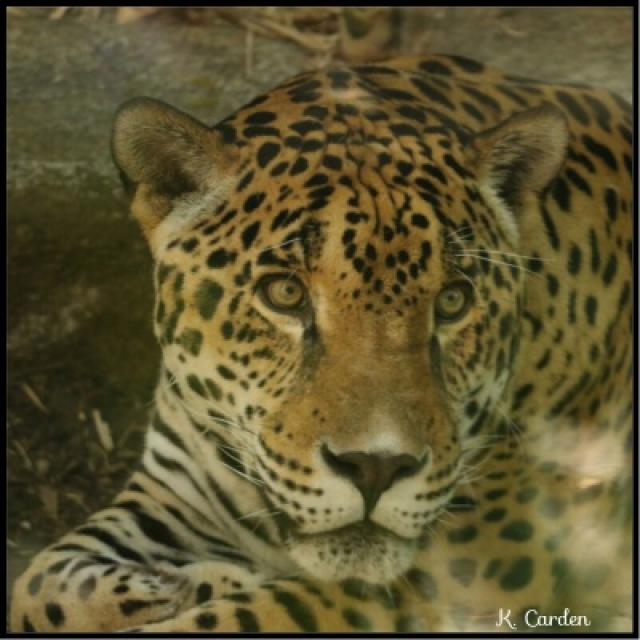Jaguar: (10, 53, 637, 635)
